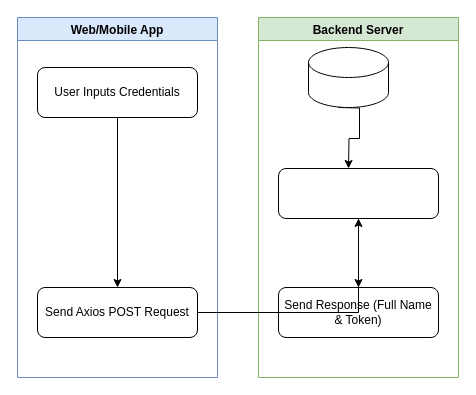
Some shapes in this 476 by 395 pixel diagram are drawn without their labels. The centre of each missing label's shape, as x and y in pixels:
"DB: users" goes at [348,77].
"login process" goes at [358,193].
